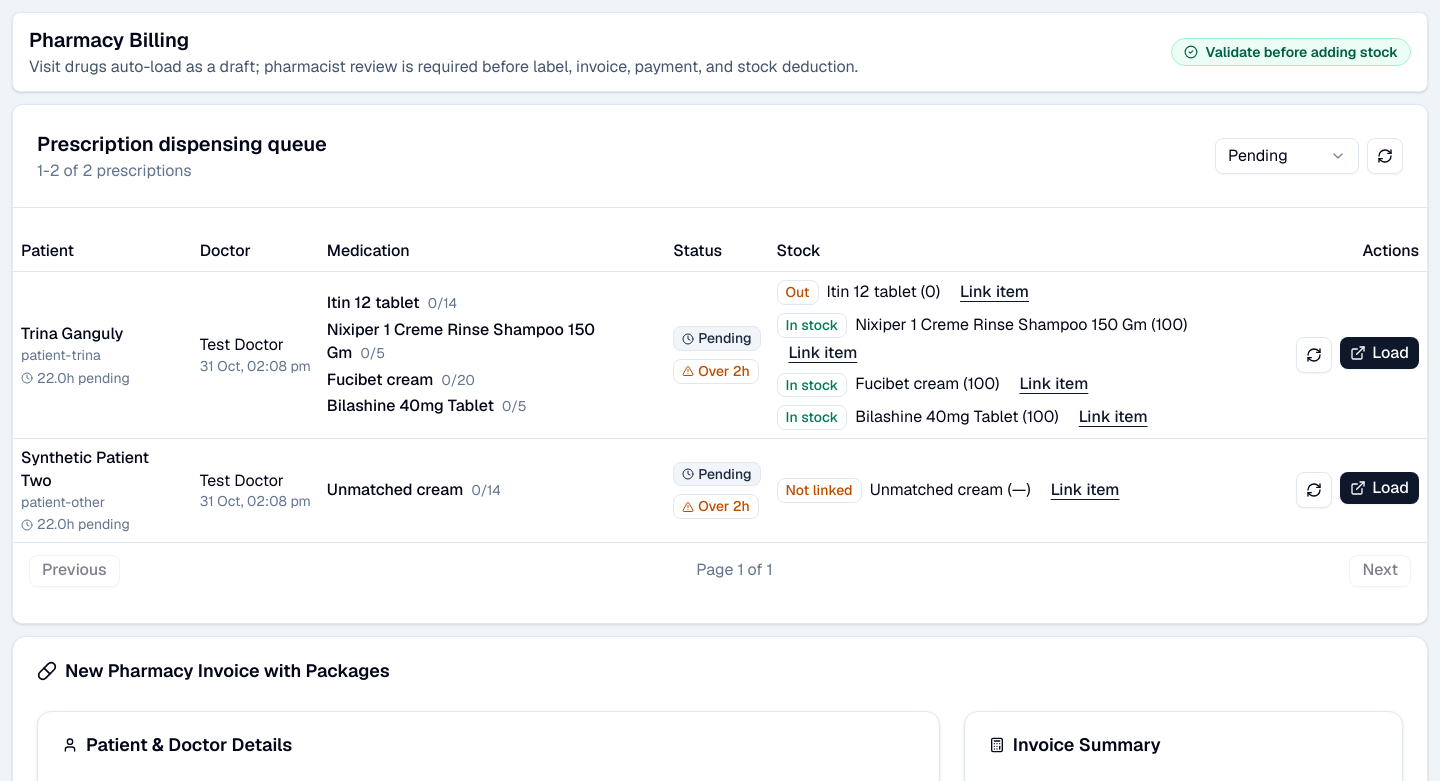
Scenario: ignores a late prescription response after switching patients
The width and height of the screenshot is (1440, 781).
Click the button "Load" in the row of "Trina Ganguly" at (1380, 353), box [1340,337,1419,369]
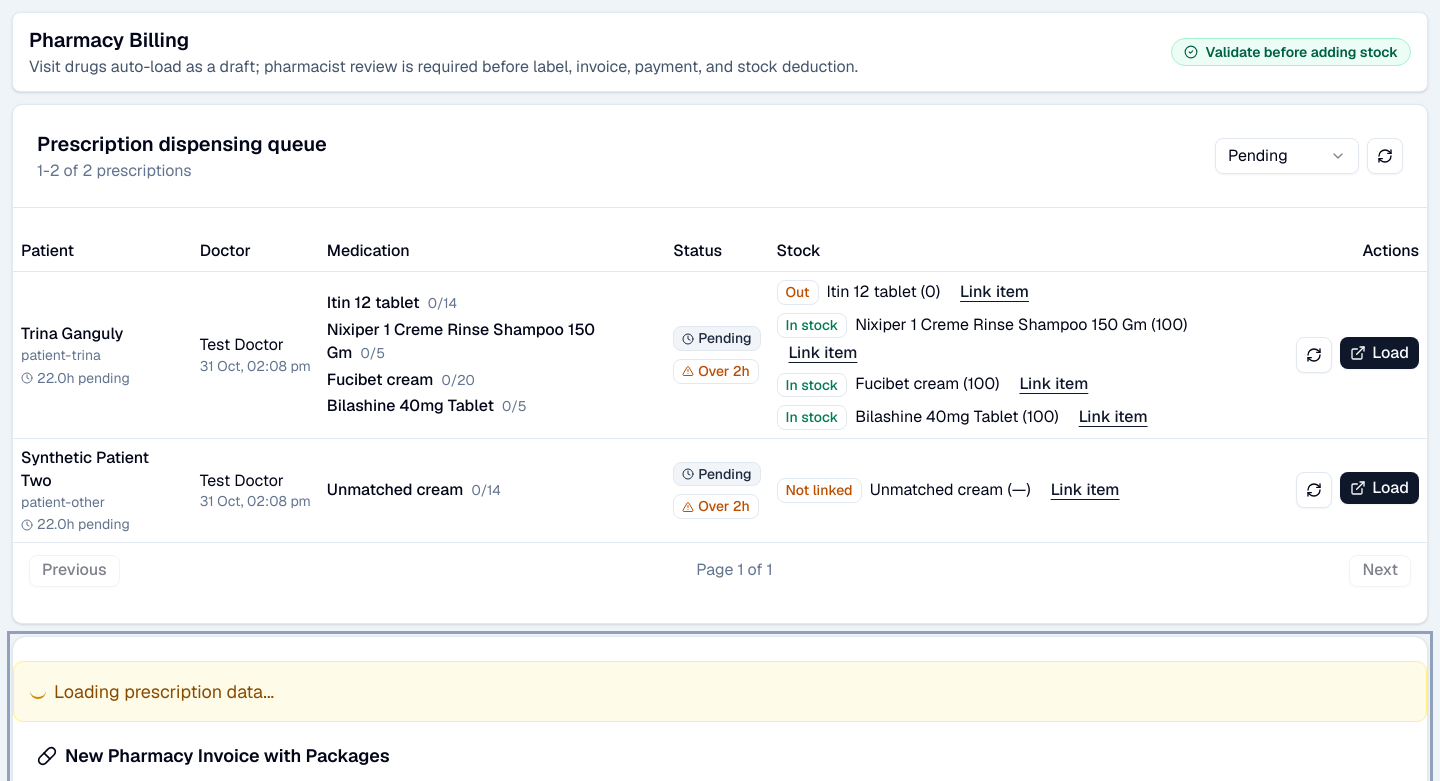
Click the button "Load" in the row of "patient-other" at (1380, 488), box [1340,472,1419,504]
(page scrolled)
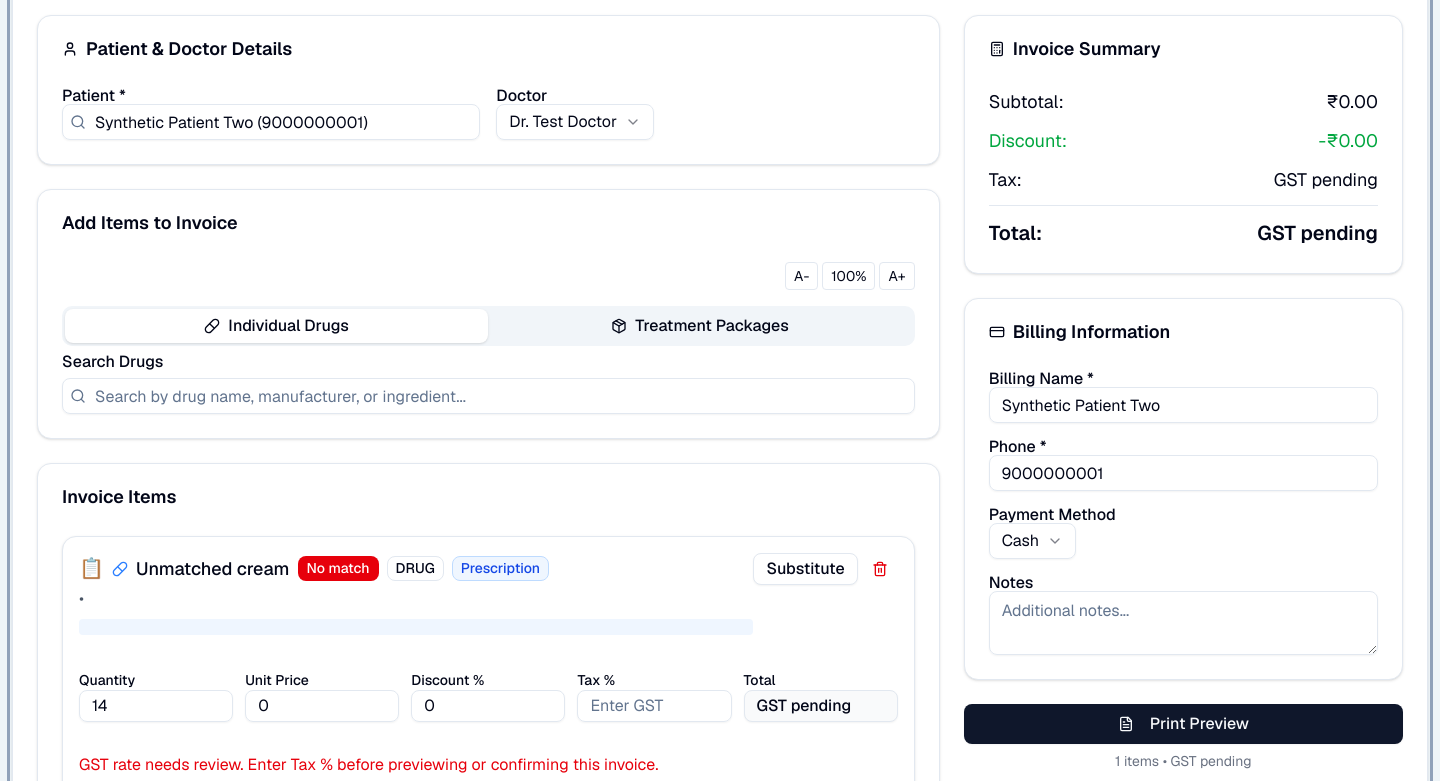
Expected: the heading "Itin 12 tablet" is not shown
Expected: the heading "Unmatched cream" is shown, [136,555,290,582]
Expected: the field showing "Synthetic Patient Two" is shown, [989,387,1378,423]
